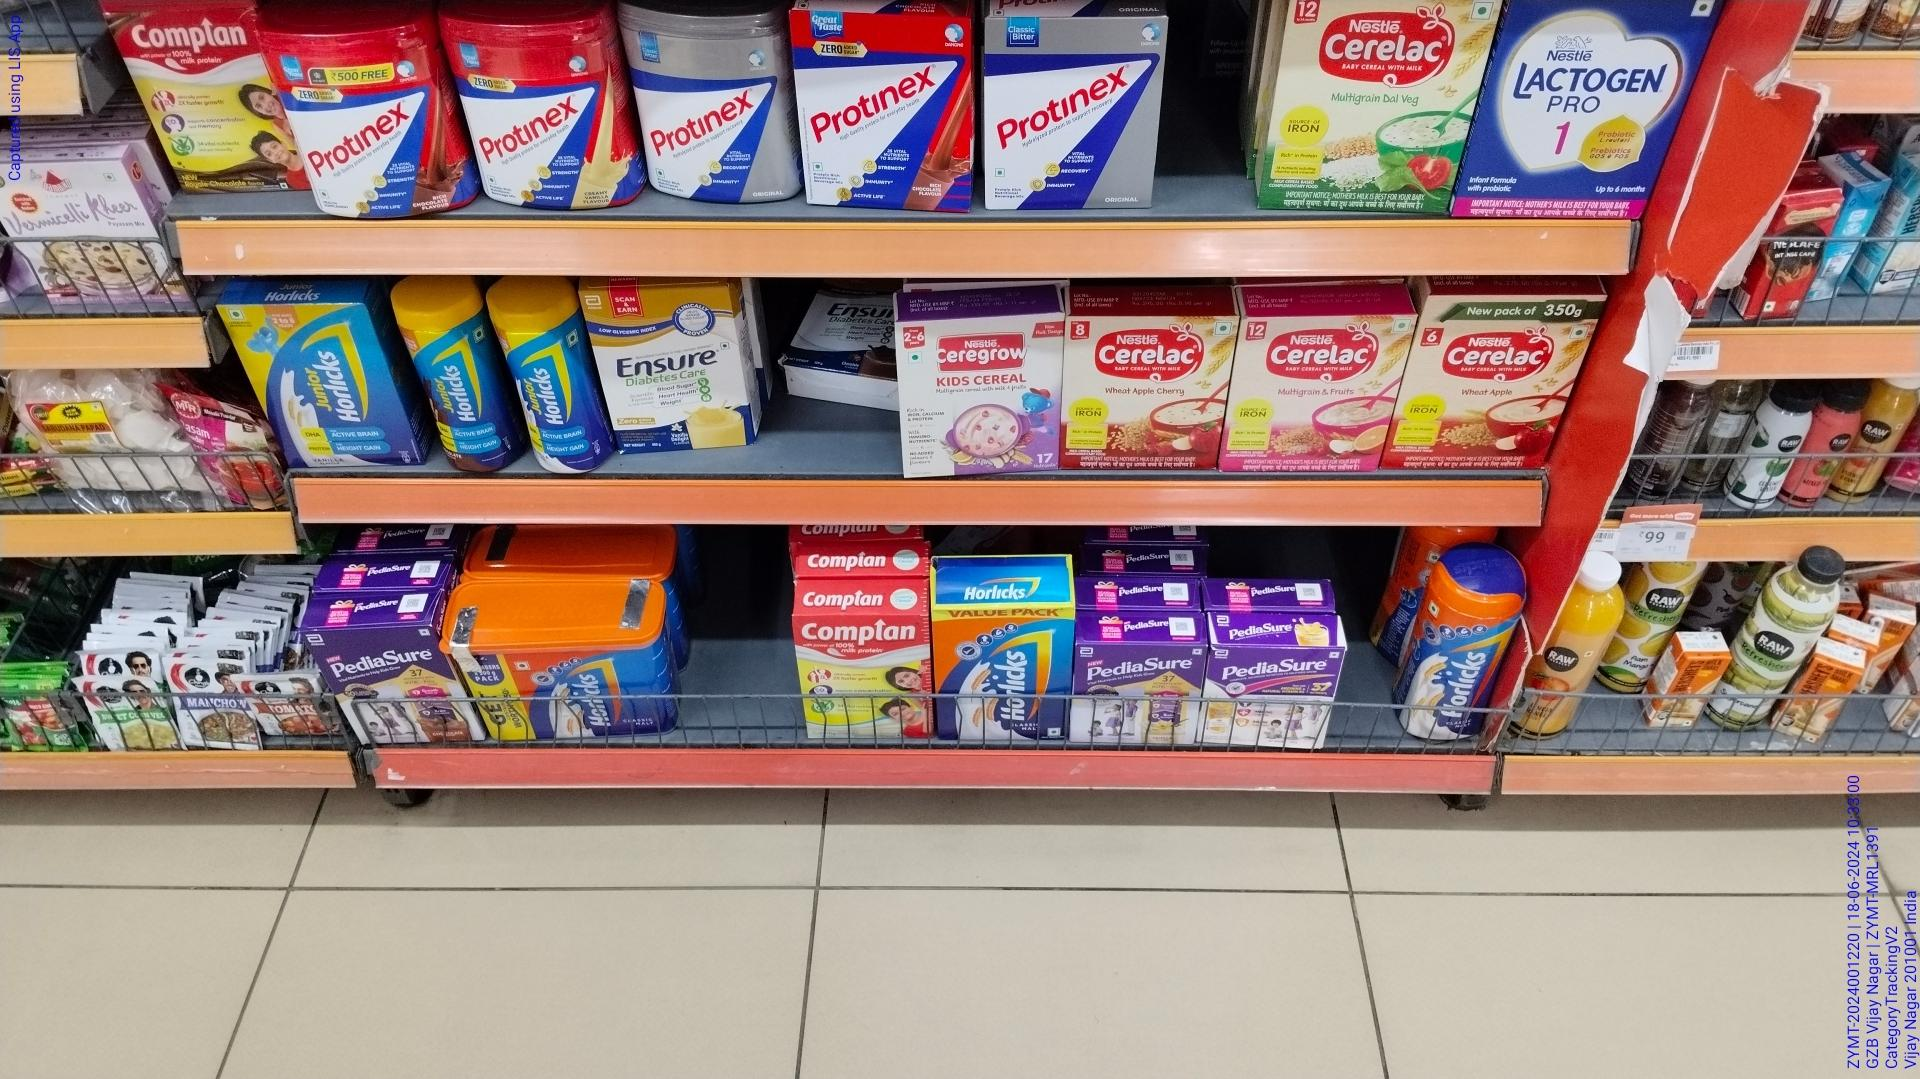COMPLAN_CHOCOLATE_500_GMS_PACK: (132, 0, 276, 191)
COMPLAN_CREAMY_CLASSIC_500_G_PACK: (795, 612, 931, 741)
HORLICKS_JUNIOR_VANILLA_500_GM_JAR: (505, 278, 584, 481)
HORLICK_CLASSIC_MALT_500_G_JAR: (1410, 541, 1514, 749)
HORLICK_CLASSIC_MALT_500_G_PACK: (936, 600, 1069, 744)
HORLICK_MALT_1_KG_CONTAINER: (467, 583, 688, 743)
PEDIASURE_VANILLA_500_G_PACK: (1072, 642, 1199, 744)
PROTINEX_CHOCOLATE_400_G_JAR: (462, 0, 622, 212), (282, 5, 438, 219)
PROTINEX_ORIGINAL_400_G_JAR: (634, 0, 793, 206)
